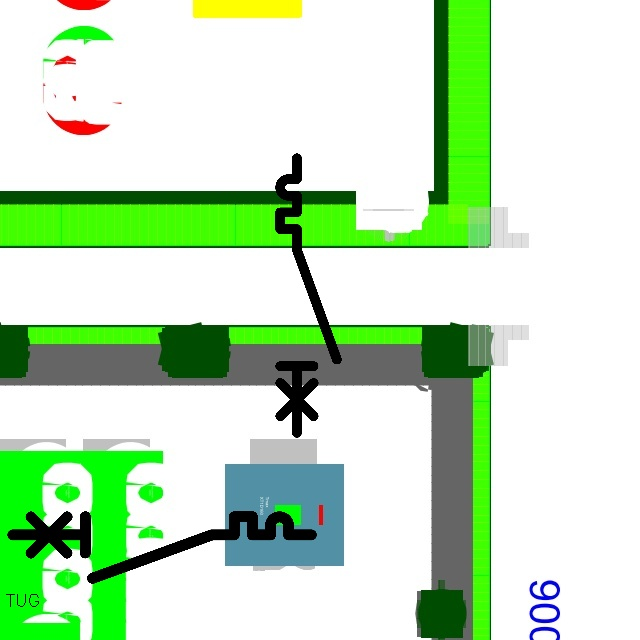interruptor_termomagnetico: (5, 509, 319, 585), (273, 151, 343, 440)
